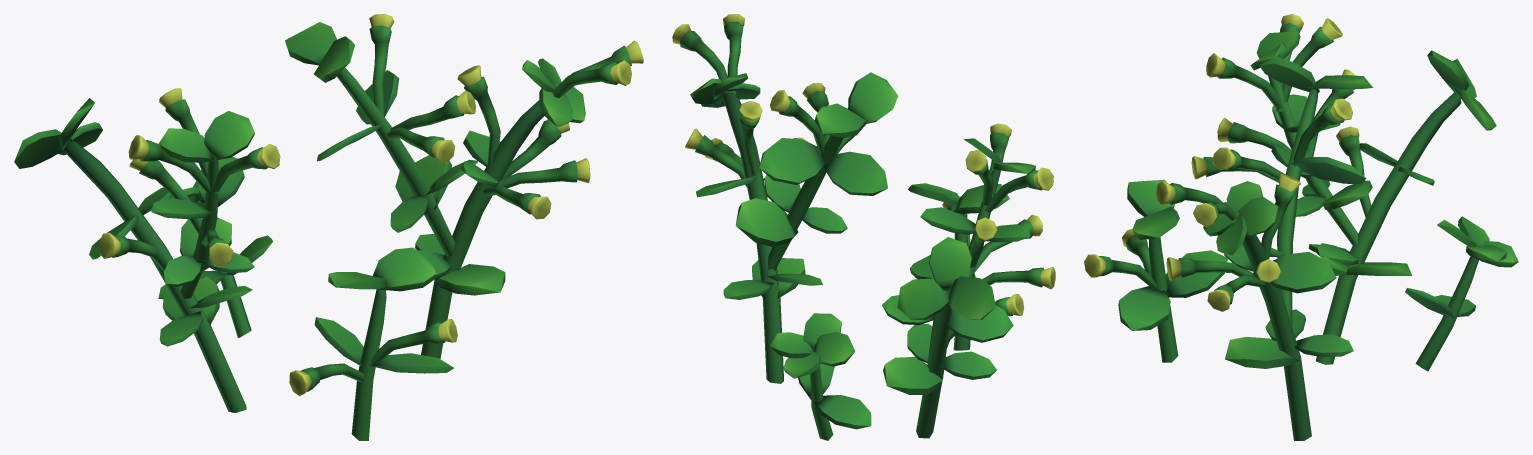
The model's file is SM_Plant_BermudaButtercup_Lv2.fbx.
The picture shows the model from 3 angles, left to right: view 1: azimuth 30°, elevation 25°; view 2: azimuth 150°, elevation 25°; view 3: azimuth 270°, elevation 25°; orthographic projection. The views are drawn at different scales.
Parts seen in each view (by area): view 1: SM_Plant_BermudaButtercup_Lv2; view 2: SM_Plant_BermudaButtercup_Lv2; view 3: SM_Plant_BermudaButtercup_Lv2.
Part boxes in pixels (left/top/right/bottom): SM_Plant_BermudaButtercup_Lv2: left=14, top=14, right=643, bottom=440; SM_Plant_BermudaButtercup_Lv2: left=672, top=14, right=1055, bottom=440; SM_Plant_BermudaButtercup_Lv2: left=1084, top=14, right=1518, bottom=440.
Bounding box in the file's own units: 46.15 × 32.89 × 37.42.
